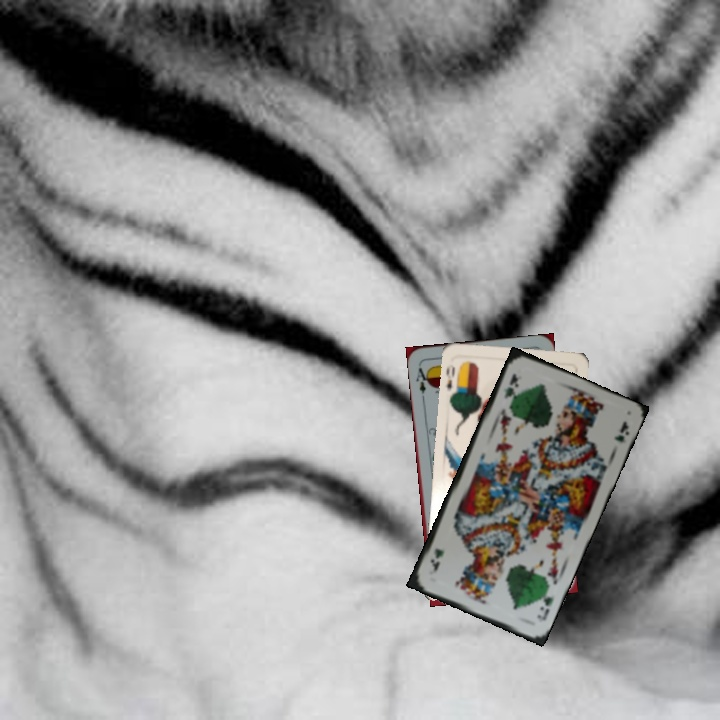EA: (412, 361, 432, 401)
EO: (442, 362, 462, 397)
GK: (499, 370, 521, 407), (533, 592, 556, 623)
